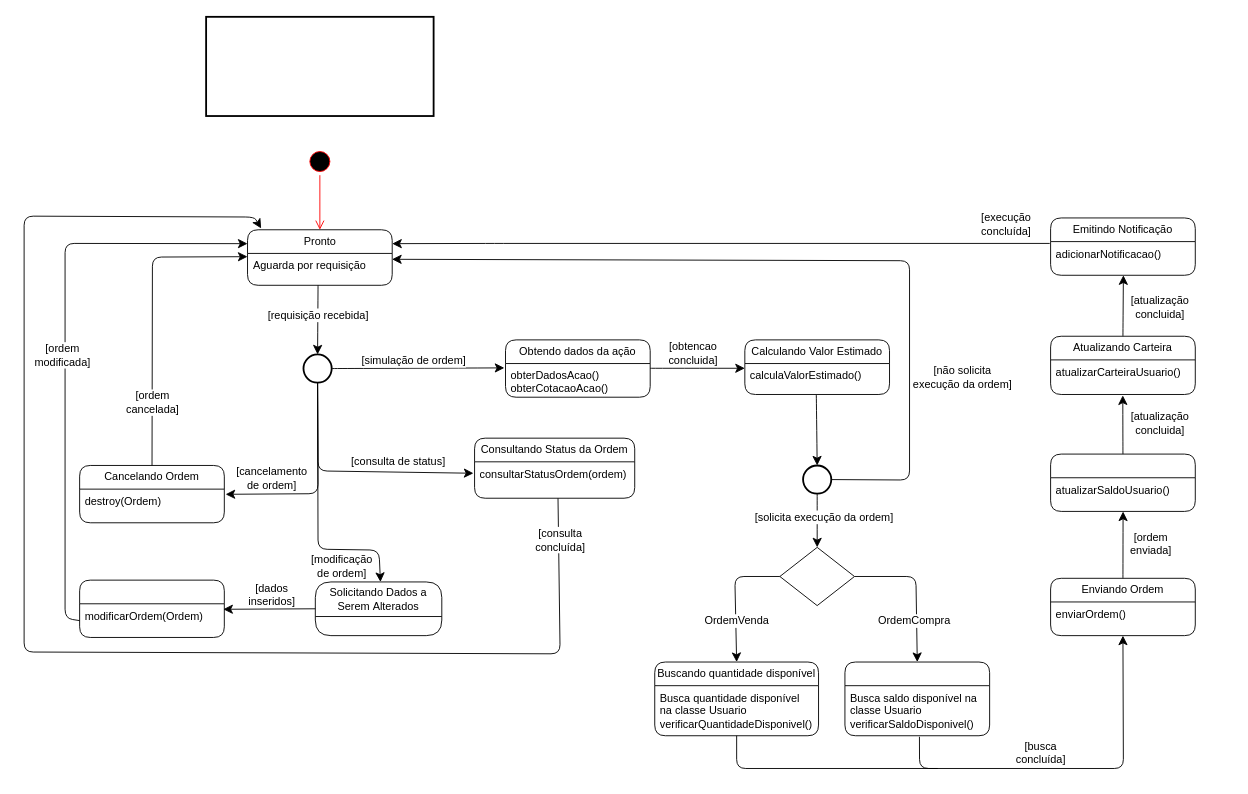
Image size: 1248x794. Some labels were removed from this diagram. Here are the shapes that lost their labels. From the top down, the box of each, then its label:
(205, 15, 434, 116): Classe Ordem (subclasses OrdemCompra e OrdemVenda)
(1050, 453, 1195, 511): Atualizando Saldo
(779, 546, 854, 606): Tipo de Ordem
(79, 579, 224, 637): Modificando Ordem
(844, 661, 990, 736): Buscando saldo disponível
